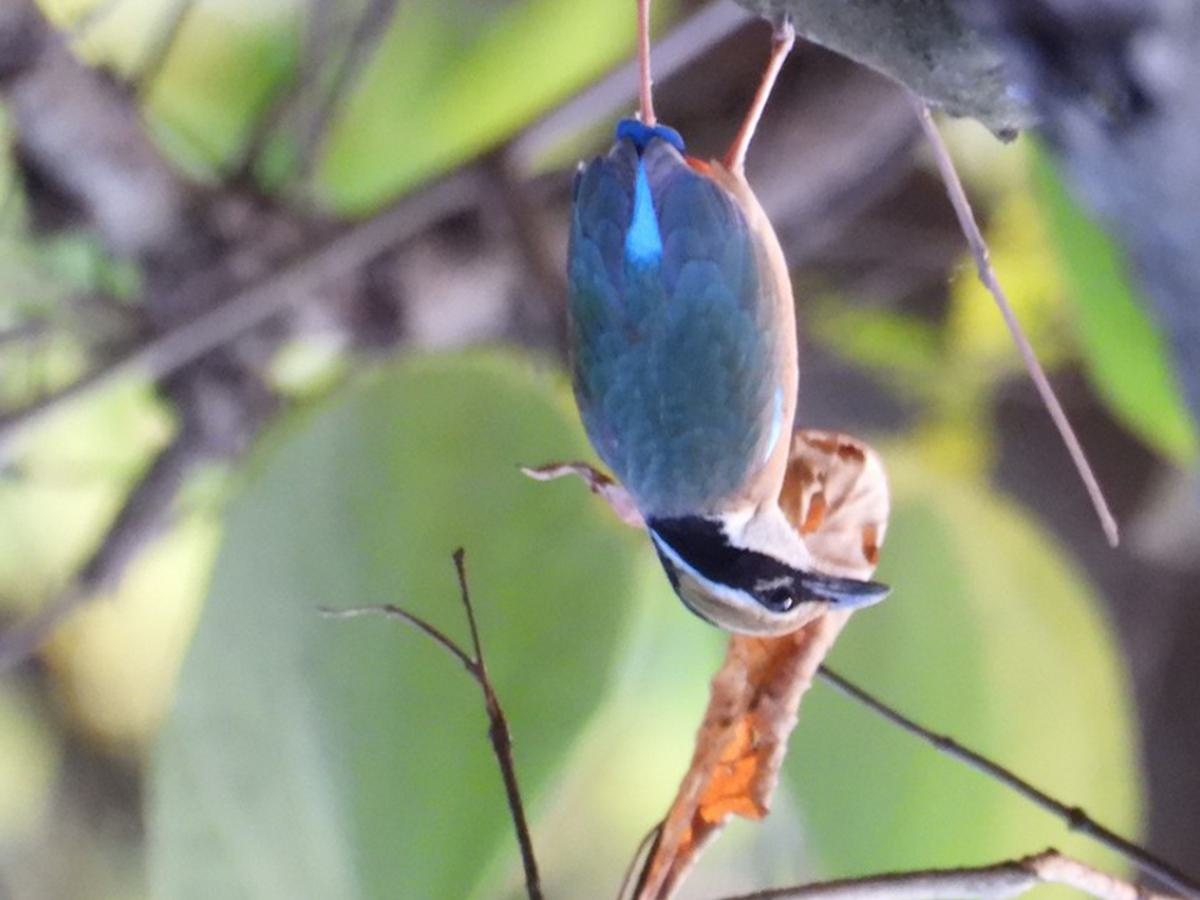pitta: (527, 72, 907, 644)
